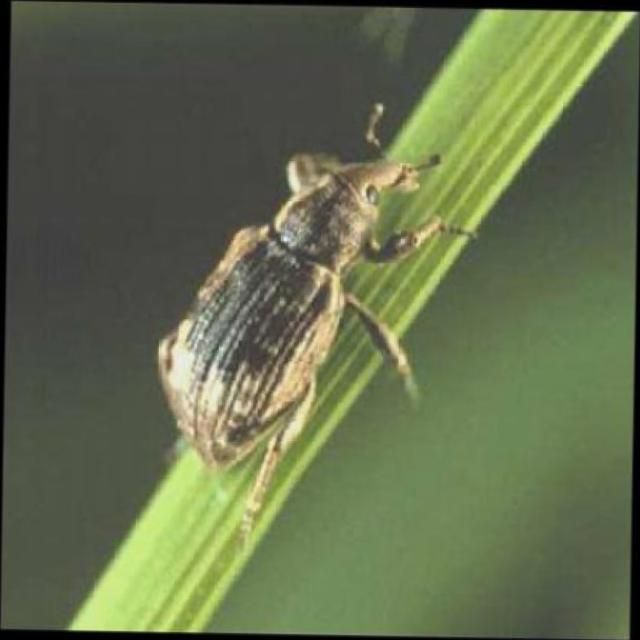rice-bug: (144, 130, 436, 478)
